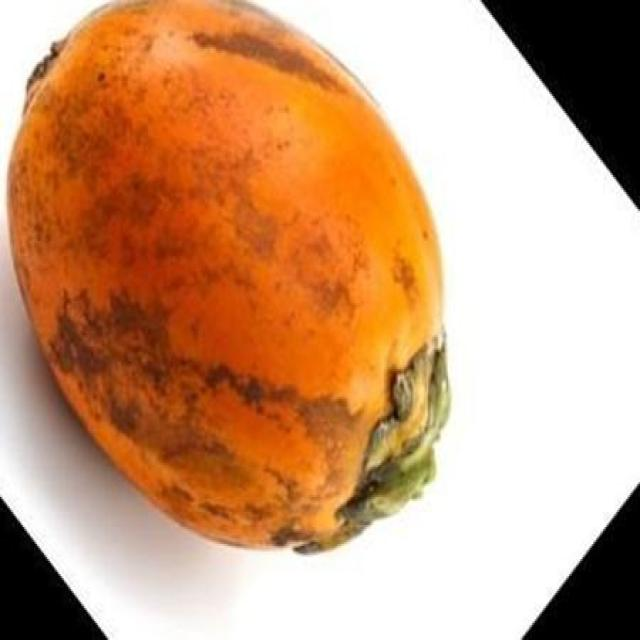good: (7, 0, 452, 555)
